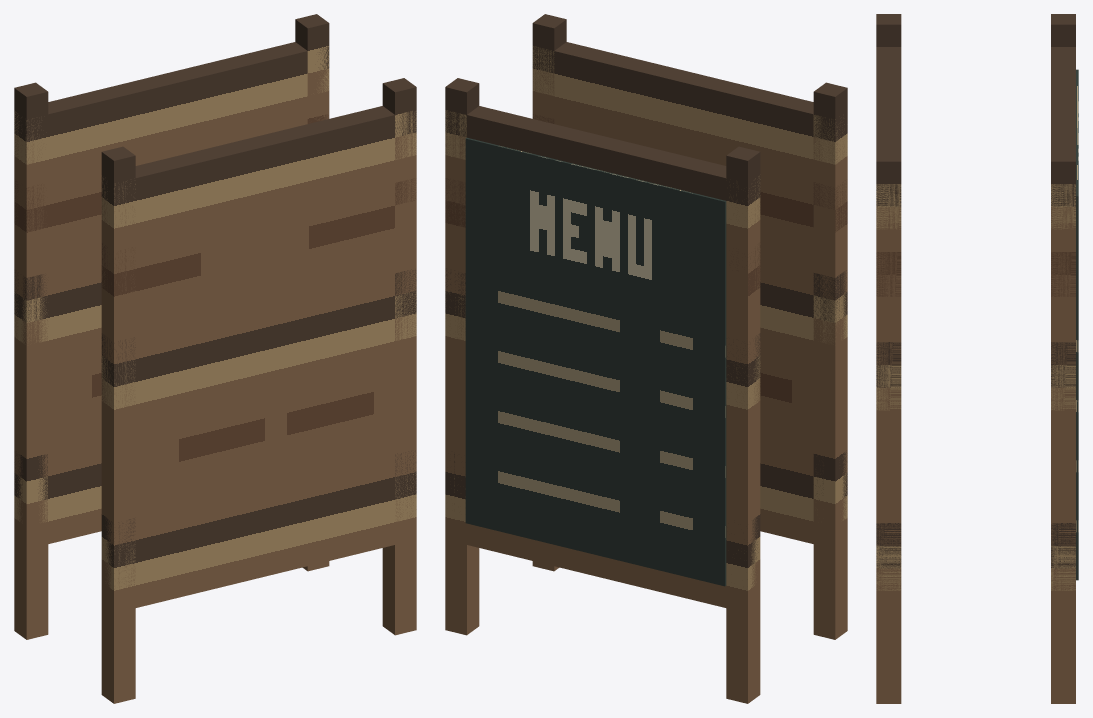
File: menu_a_board.gltf
The picture shows the model from 3 angles, left to right: view 1: azimuth 30°, elevation 25°; view 2: azimuth 150°, elevation 25°; view 3: azimuth 270°, elevation 25°; orthographic projection.
Parts seen in each view (by area): view 1: board (×2), leg (×4); view 2: menu, board (×2), leg (×4); view 3: leg (×4), board (×2), menu.
Boxes of the visible parts, x1,y1,x2,y2 form: board (×2): (14,42,416,613); leg (×4): (14,14,416,703); menu: (465,137,726,586); board (×2): (445,42,847,613); leg (×4): (445,14,847,703); leg (×4): (876,14,1075,703); board (×2): (876,47,1075,613); menu: (1076,69,1078,580).
Size of the model in its own units: 0.875 by 1.5 by 0.5062.
2 materials, 2 textured.
